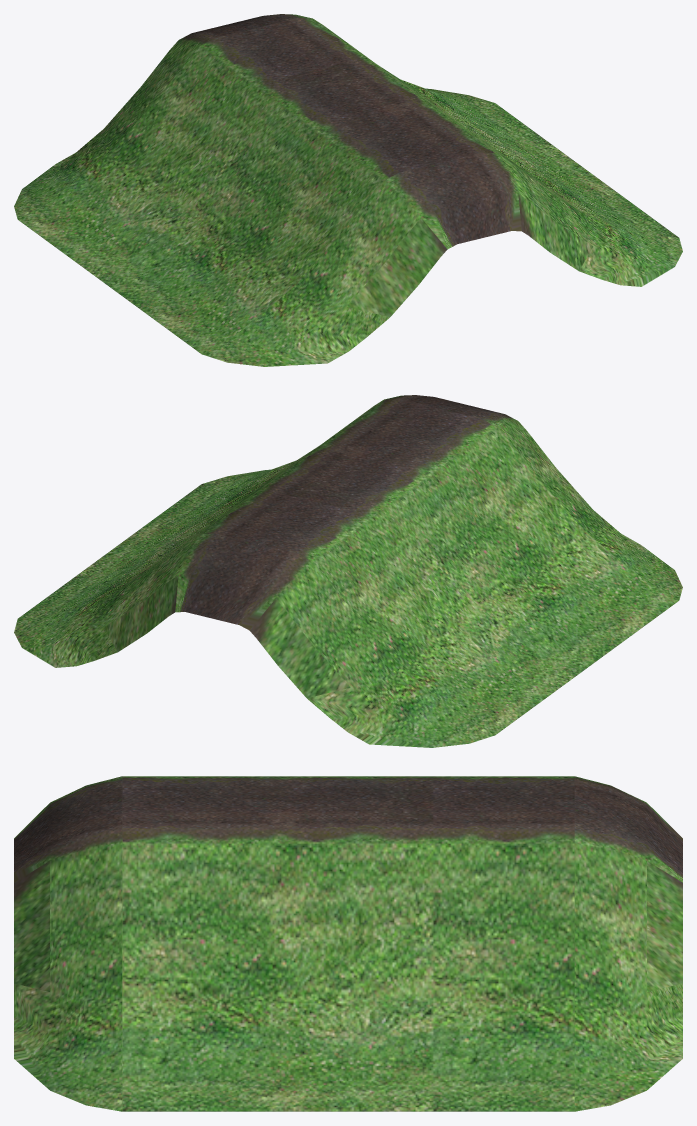
File: 1nasip_25_TSM.gltf
The picture shows the model from 3 angles, top to bottom: view 1: azimuth 30°, elevation 25°; view 2: azimuth 150°, elevation 25°; view 3: azimuth 270°, elevation 25°; orthographic projection. The views are drawn at different scales.
Size of the model in its own units: 37.47 by 10.02 by 37.
1 material, 1 textured.
